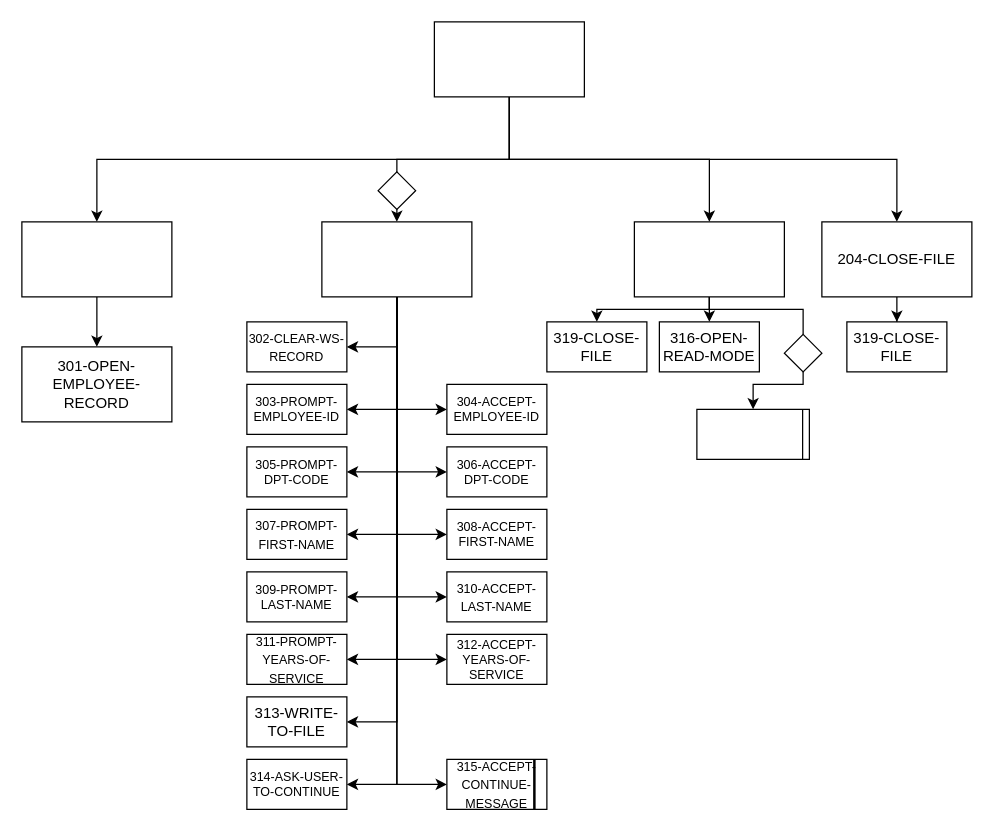
Some shapes in this 994 by 834 pixel diagram are drawn without their labels. Here are the shapes that lost their labels. From the top down, the box of each, then its label:
(433, 21, 584, 97): 100-PROJECT1
(21, 221, 172, 297): 201-INITIATE-WRITE
(321, 221, 472, 297): 202-ACCEPT-USER-INPUT-TO-FILE
(633, 221, 784, 297): 203-READ-FILE
(696, 408, 809, 459): 317-READ-RECORD
